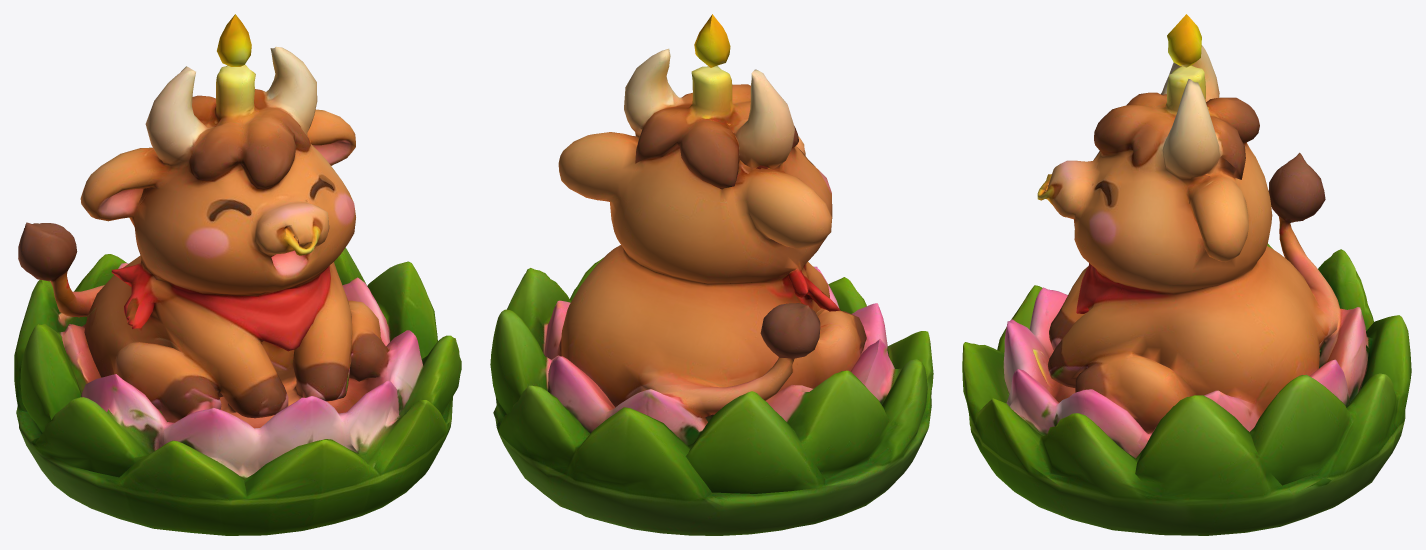
The model's file is bull.glb.
3 renders of one model, left to right at view 1: azimuth 30°, elevation 25°; view 2: azimuth 150°, elevation 25°; view 3: azimuth 270°, elevation 25°, orthographic.
Parts seen in each view (by area): view 1: tripo_node_b6c0ad03-3ed3-4b9d-bf77-f96ad87a01c1; view 2: tripo_node_b6c0ad03-3ed3-4b9d-bf77-f96ad87a01c1; view 3: tripo_node_b6c0ad03-3ed3-4b9d-bf77-f96ad87a01c1.
Boxes of the visible parts, left/top/right/bottom form: tripo_node_b6c0ad03-3ed3-4b9d-bf77-f96ad87a01c1: left=14, top=14, right=461, bottom=535; tripo_node_b6c0ad03-3ed3-4b9d-bf77-f96ad87a01c1: left=490, top=14, right=933, bottom=535; tripo_node_b6c0ad03-3ed3-4b9d-bf77-f96ad87a01c1: left=962, top=14, right=1411, bottom=535.
Size of the model in its own units: 0.9238 by 0.9994 by 0.9223.
Materials: 1 (1 with a texture image).
